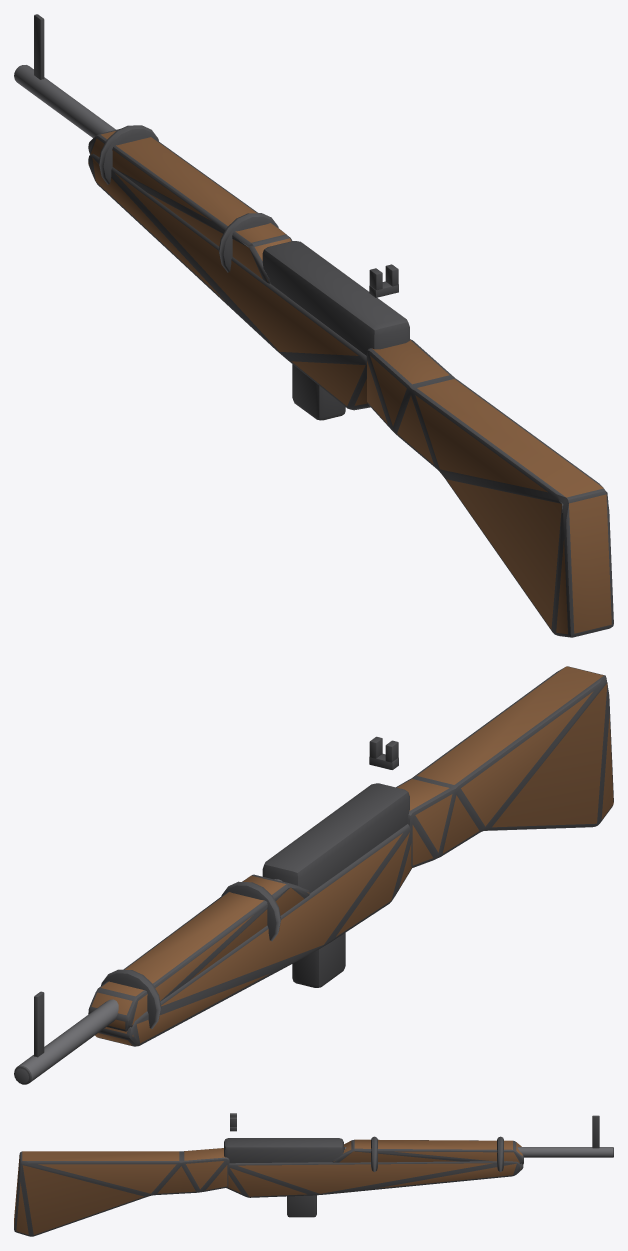
File: m1carbine.glb
The picture shows the model from 3 angles, top to bottom: view 1: azimuth 30°, elevation 25°; view 2: azimuth 150°, elevation 25°; view 3: azimuth 270°, elevation 25°; orthographic projection. The views are drawn at different scales.
Visible parts, largest first — view 1: m1carbine_LOD0; view 2: m1carbine_LOD0; view 3: m1carbine_LOD0.
Boxes of the visible parts, x1,y1,x2,y2 form: m1carbine_LOD0: [14, 14, 613, 637]; m1carbine_LOD0: [14, 666, 613, 1084]; m1carbine_LOD0: [14, 1113, 613, 1236].
Bounding box in the file's own units: 0.062 × 0.2132 × 0.9997.
